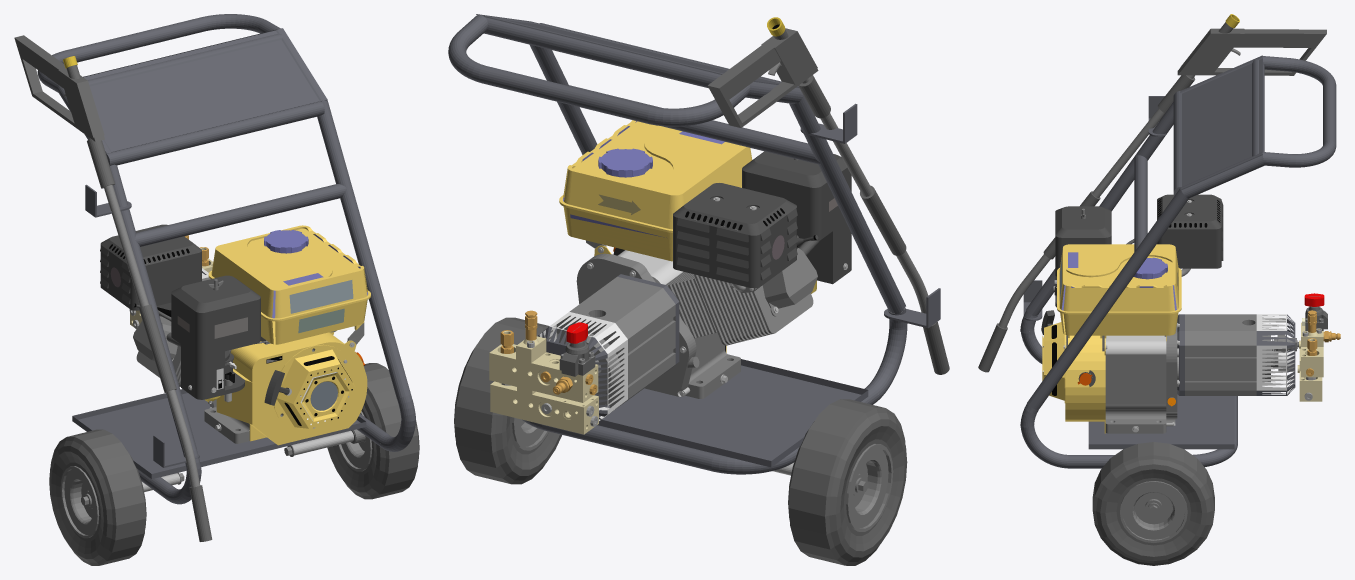
3 views of the same model, side by side, from view 1: azimuth 30°, elevation 25°; view 2: azimuth 150°, elevation 25°; view 3: azimuth 270°, elevation 25° (orthographic). The views are drawn at different scales.
Parts seen in each view (by area): view 1: imagetostl_mesh; view 2: imagetostl_mesh; view 3: imagetostl_mesh.
Part boxes in pixels (x1,y1,x2,y2): imagetostl_mesh: (14, 14, 419, 565); imagetostl_mesh: (448, 14, 949, 565); imagetostl_mesh: (978, 14, 1340, 565).
Size of the model in its own units: 2450 by 3486 by 2669.
